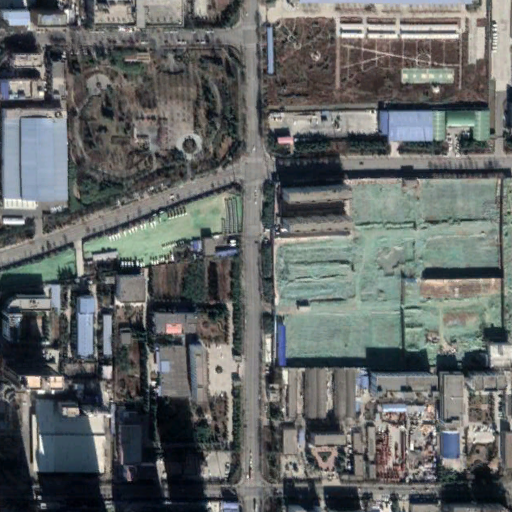cw: (268, 175, 512, 371), (83, 190, 241, 265), (3, 247, 76, 283)
